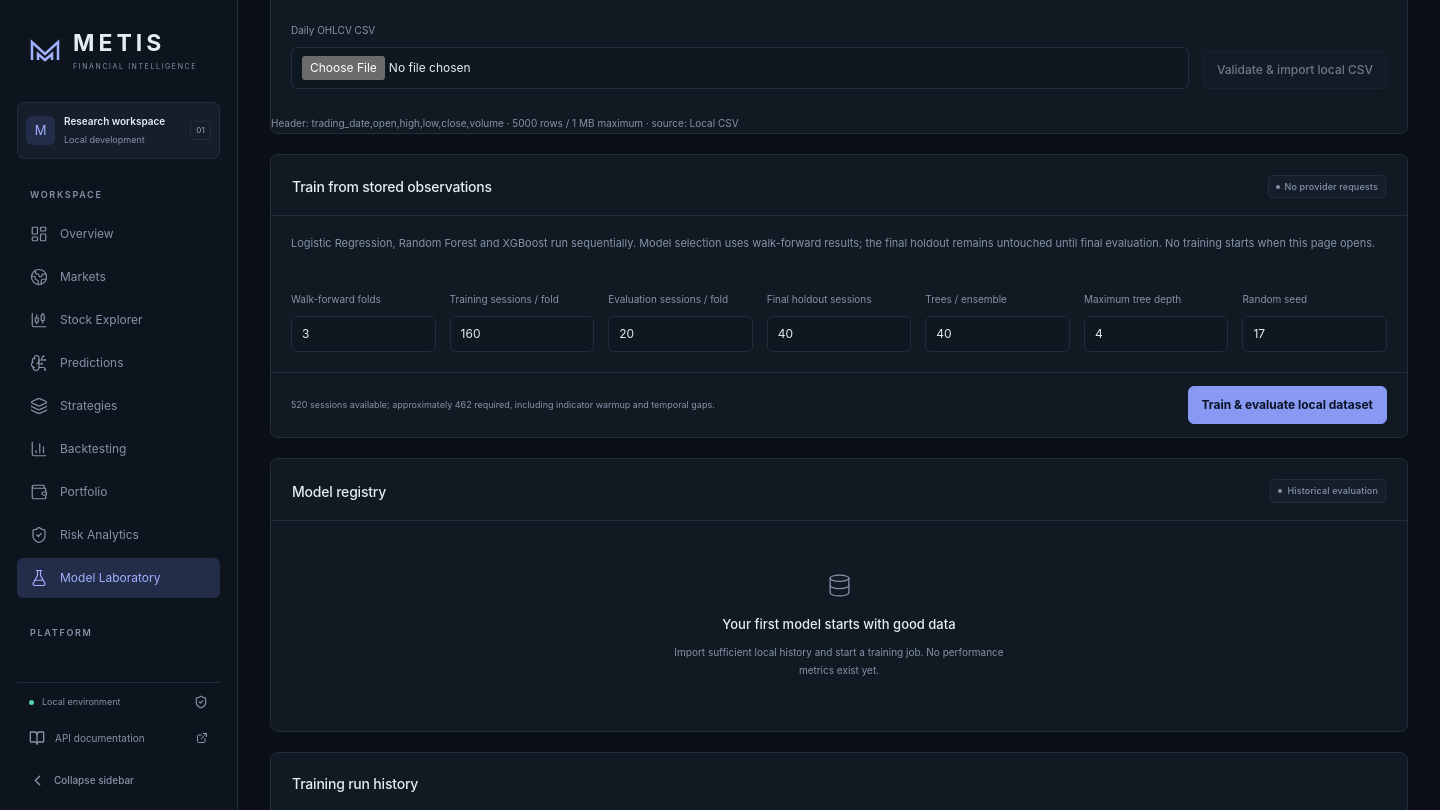
Scenario: Phase 2 deliberate actions › sends training only after explicit action with chosen configuration
(page scrolled)
Click the button "Train & evaluate local dataset" at point(1287, 405), box [1188, 386, 1387, 424]
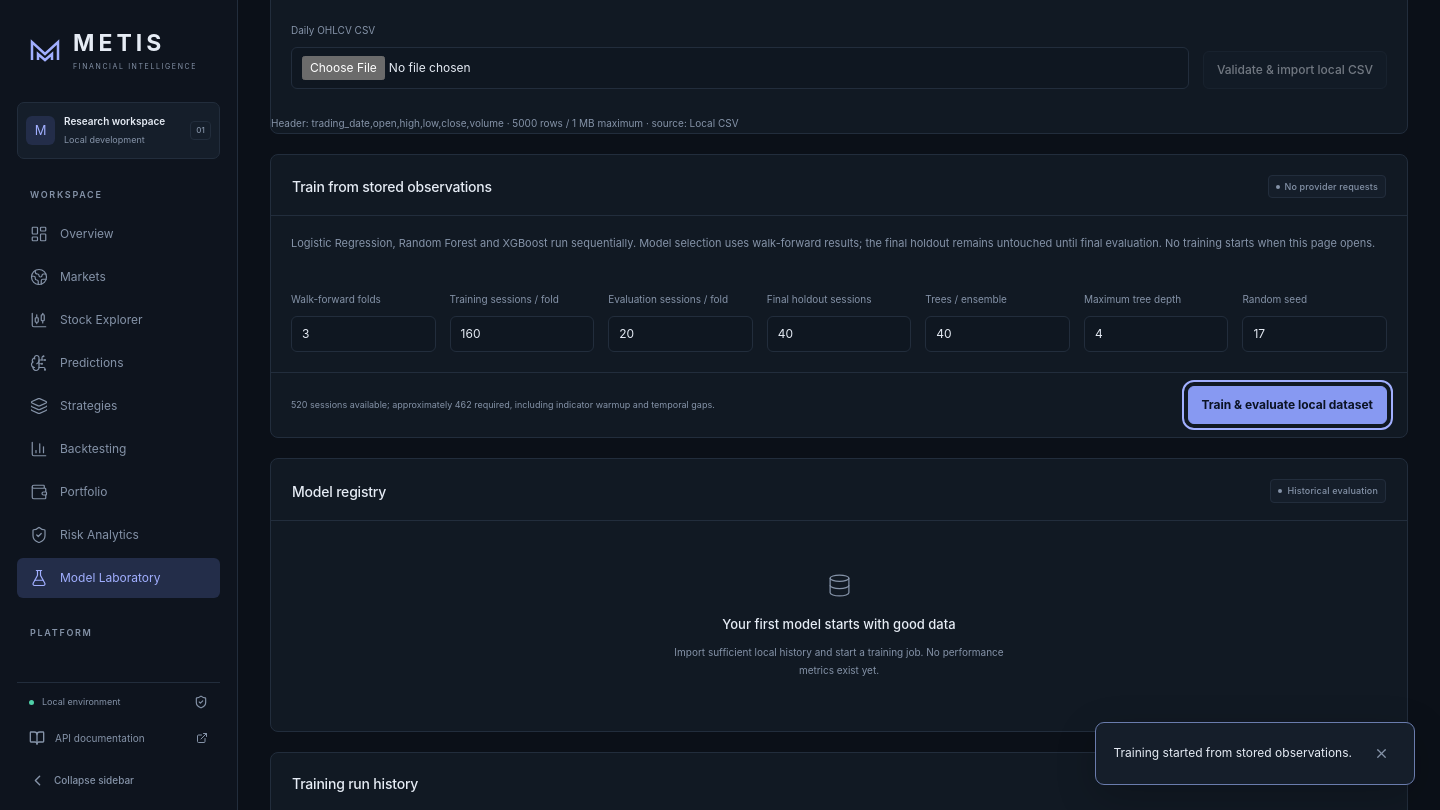
Result: the text "Training started from stored observations." is shown at [1094, 722, 1415, 785]
